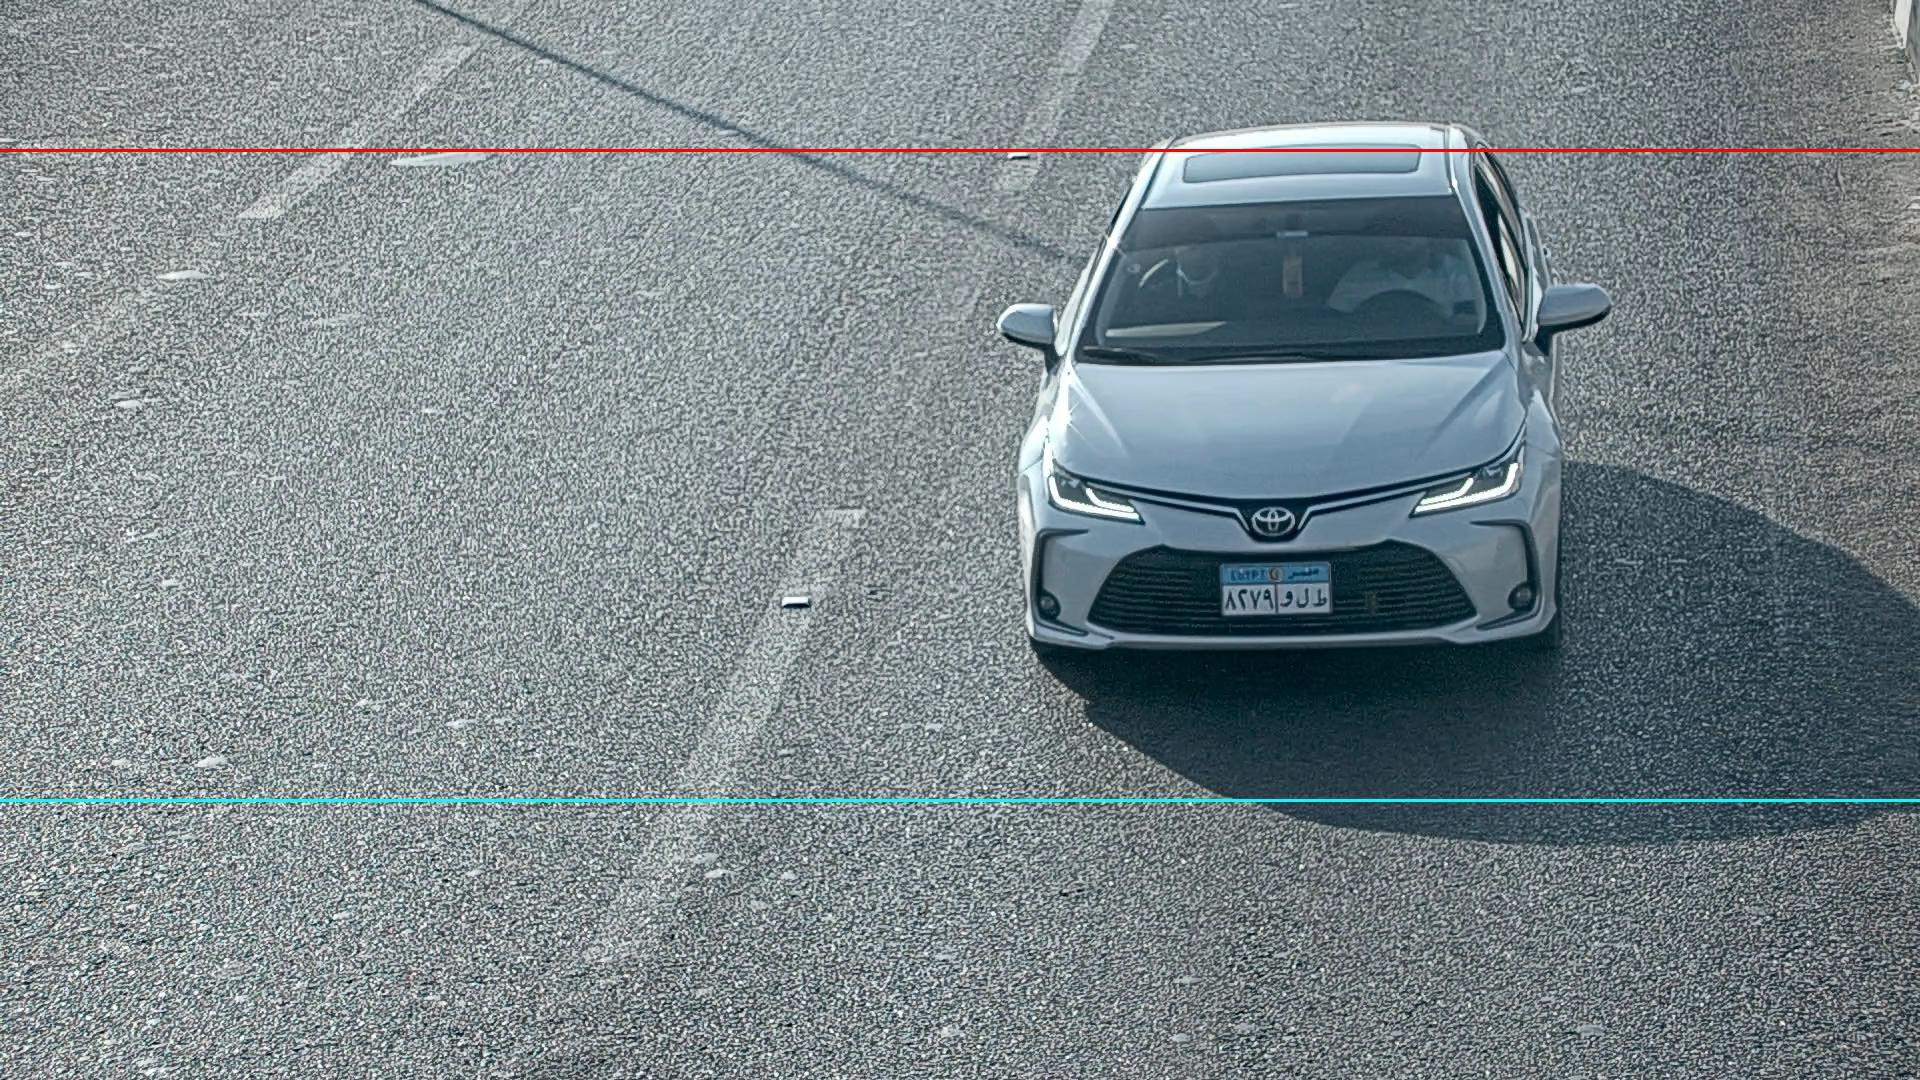windshield: (1060, 183, 1540, 377)
